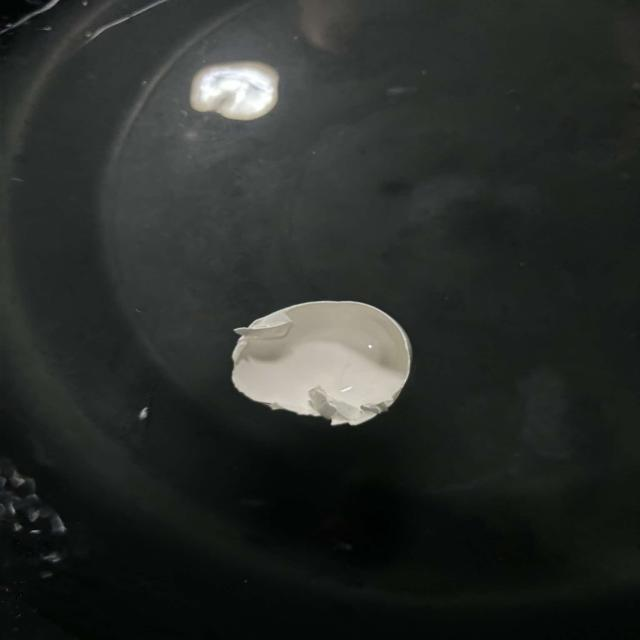Eggshell: (199, 280, 448, 444)
